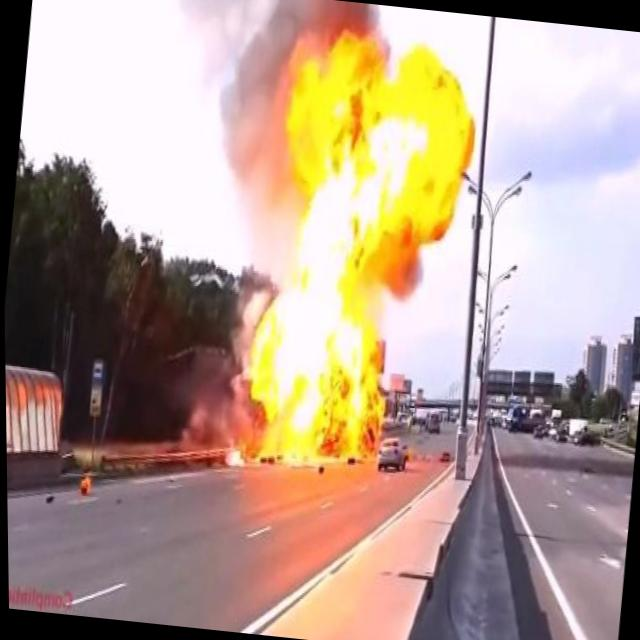fire: (230, 2, 489, 491), (76, 466, 93, 498)
